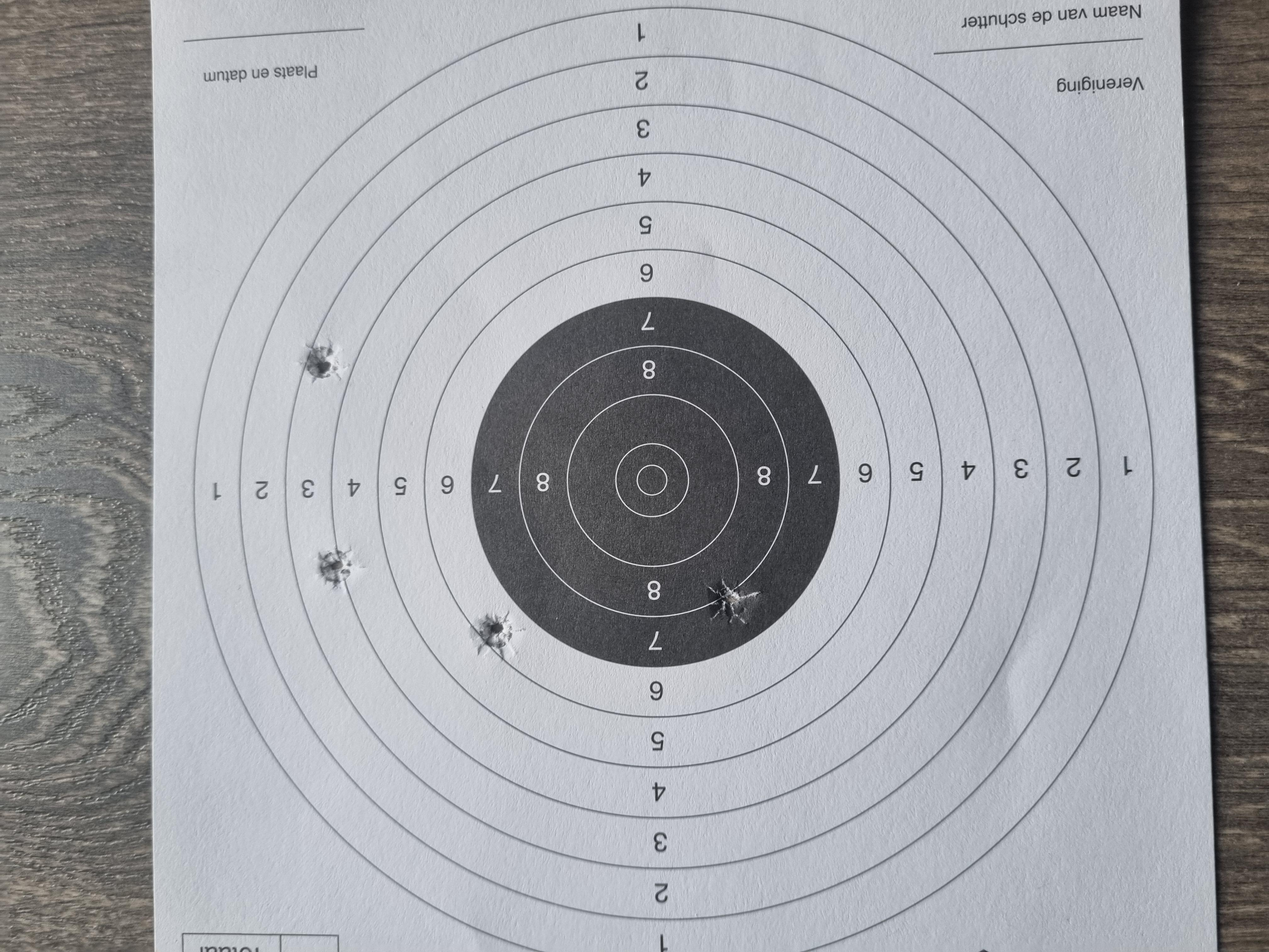hole: (439, 534, 498, 570), (389, 357, 454, 384), (760, 226, 817, 256), (485, 237, 543, 264)
